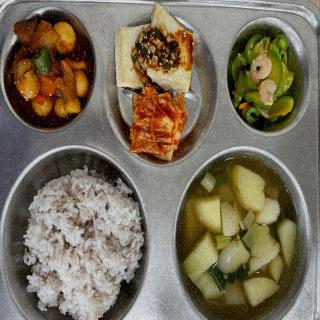Nasi: (25, 169, 145, 320)
